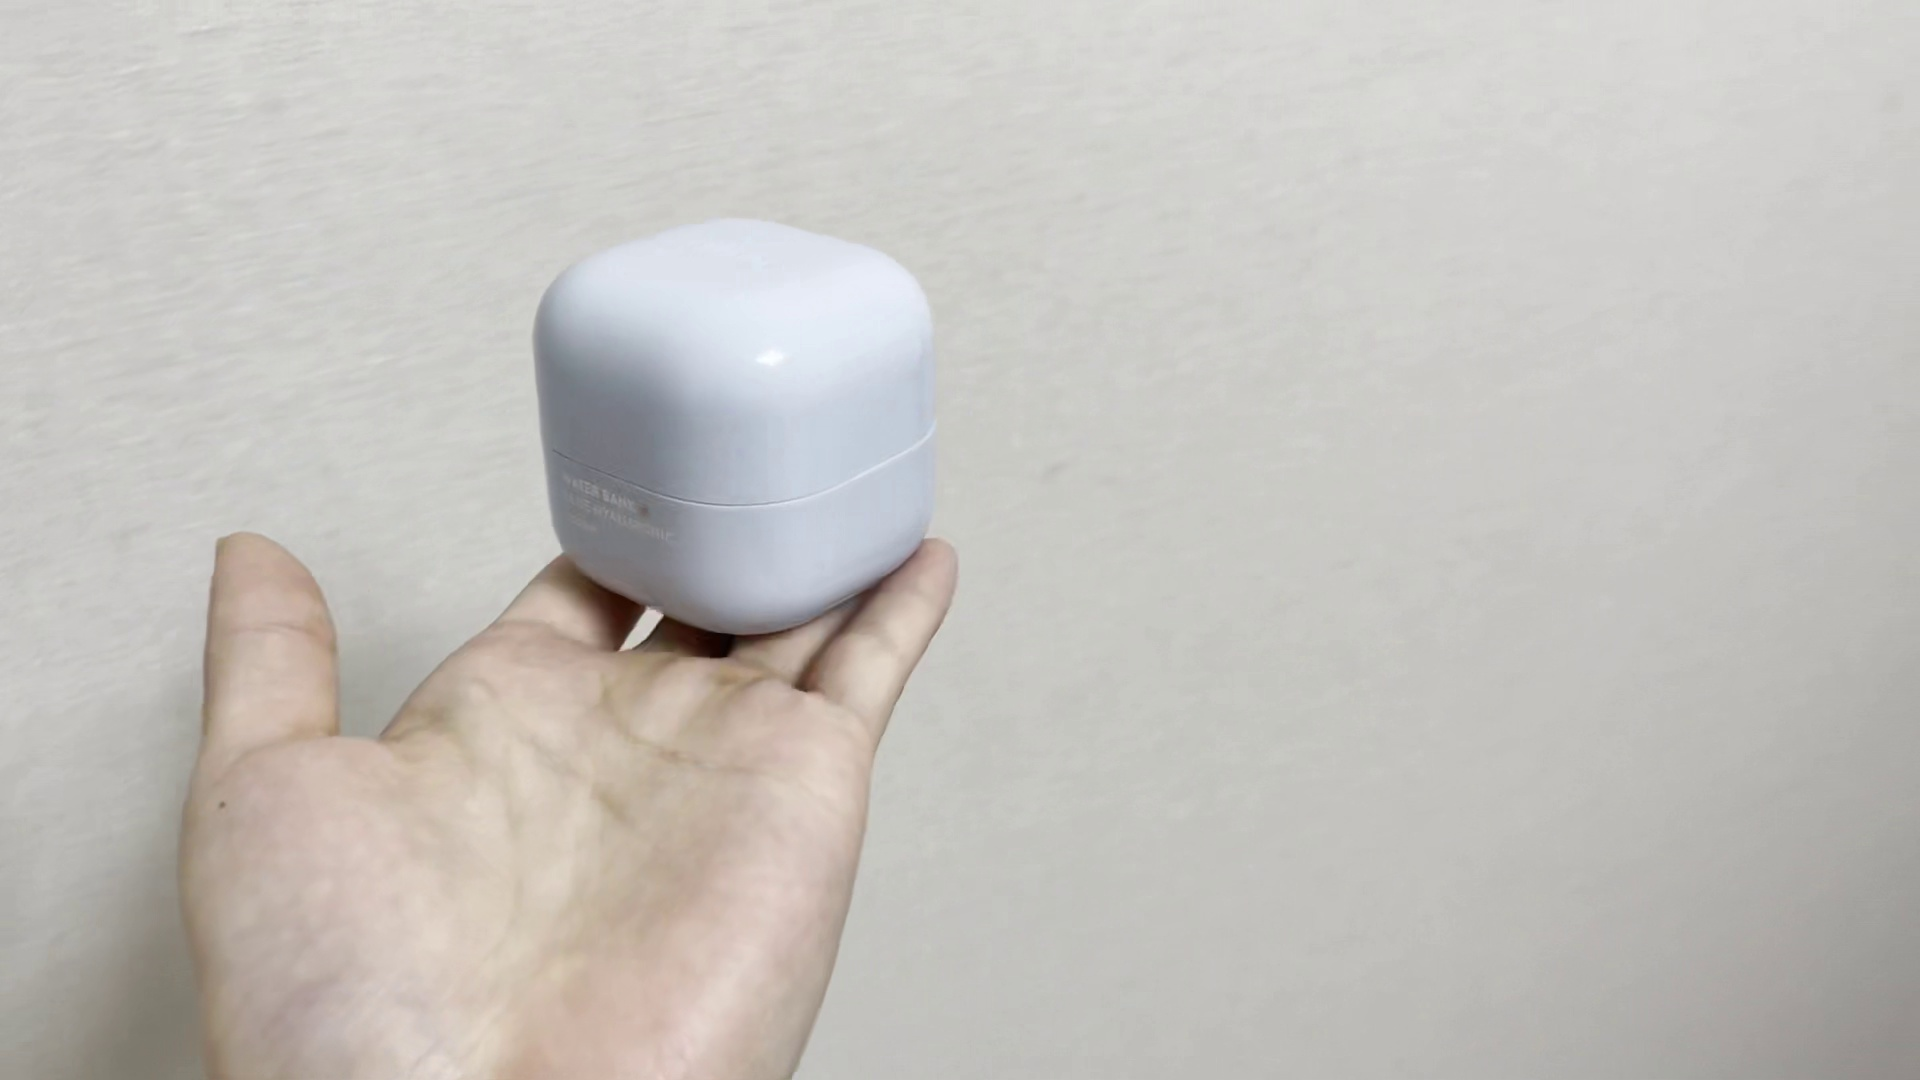cream: (541, 216, 938, 636)
